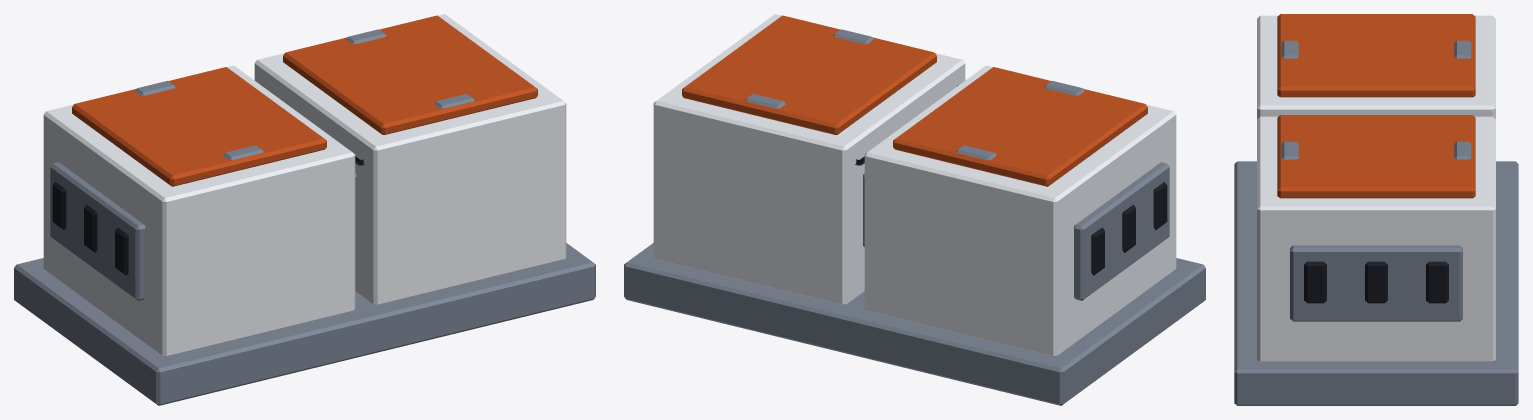
The model's file is Battery_Extended.glb.
The picture shows the model from 3 angles, left to right: view 1: azimuth 30°, elevation 25°; view 2: azimuth 150°, elevation 25°; view 3: azimuth 270°, elevation 25°; orthographic projection. The views are drawn at different scales.
Parts seen in each view (by area): view 1: Battery_Extended; view 2: Battery_Extended; view 3: Battery_Extended.
Boxes of the visible parts, left/top/right/bottom form: Battery_Extended: left=14, top=14, right=595, bottom=405; Battery_Extended: left=624, top=14, right=1205, bottom=405; Battery_Extended: left=1234, top=14, right=1518, bottom=405.
Size of the model in its own units: 0.98 by 0.4425 by 0.56.
